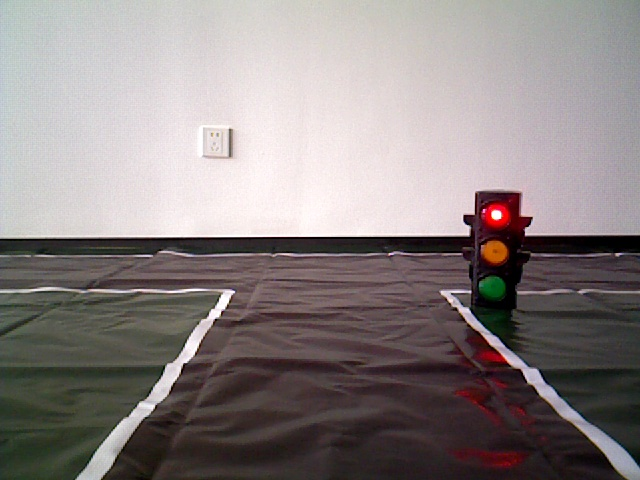red: (471, 193, 516, 304)
